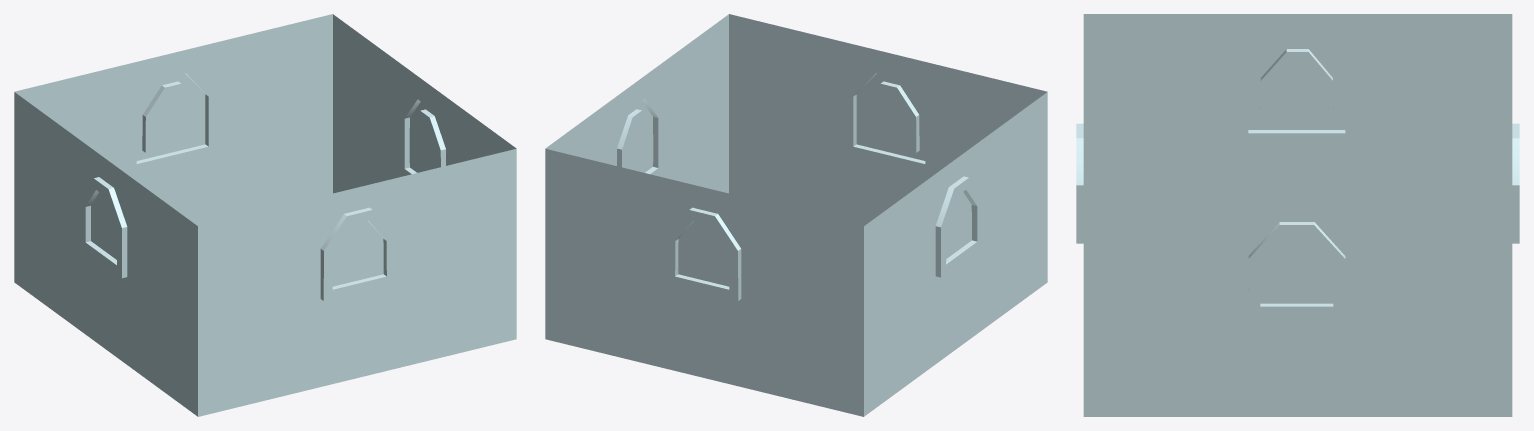
File: SS_Castle_Tower10.fbx
3 renders of one model, left to right at view 1: azimuth 30°, elevation 25°; view 2: azimuth 150°, elevation 25°; view 3: azimuth 270°, elevation 25°, orthographic. The views are drawn at different scales.
Parts seen in each view (by area): view 1: CastleTower10; view 2: CastleTower10; view 3: CastleTower10.
Part boxes in pixels (x1,y1,x2,y2): CastleTower10: (14,14,516,416); CastleTower10: (545,14,1047,416); CastleTower10: (1076,14,1519,416).
Bounding box in the file's own units: 14.48 × 8 × 14.48.
